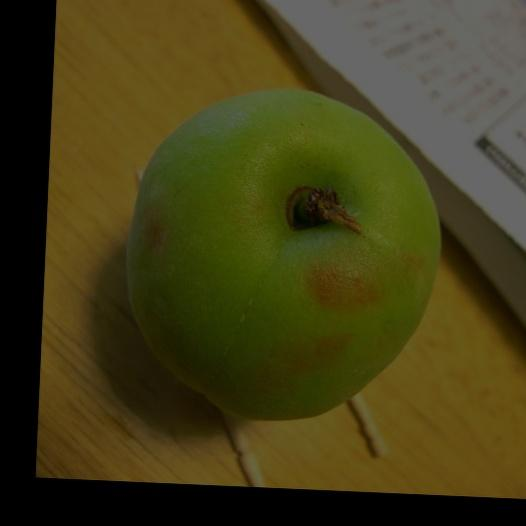green apple: (116, 85, 448, 426)
